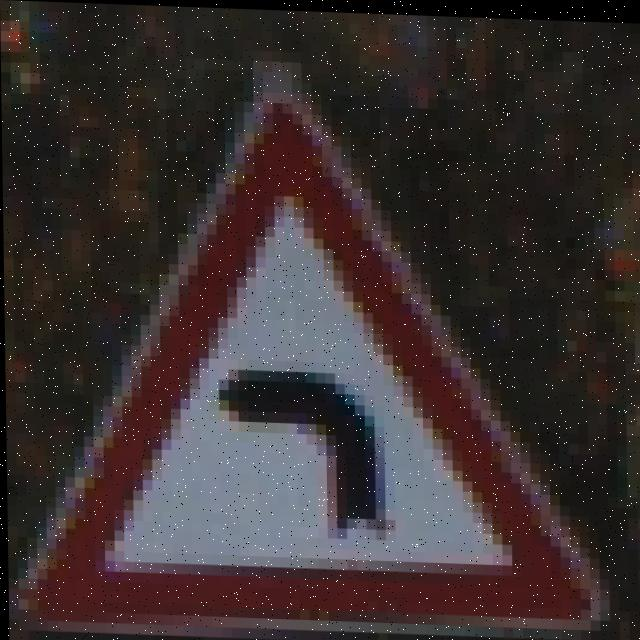left_turn: (55, 147, 614, 640)
